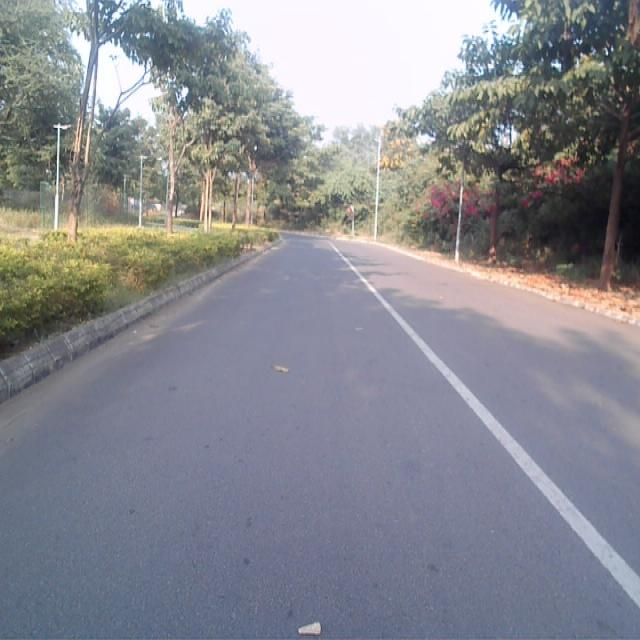lane: (0, 240, 640, 637)
